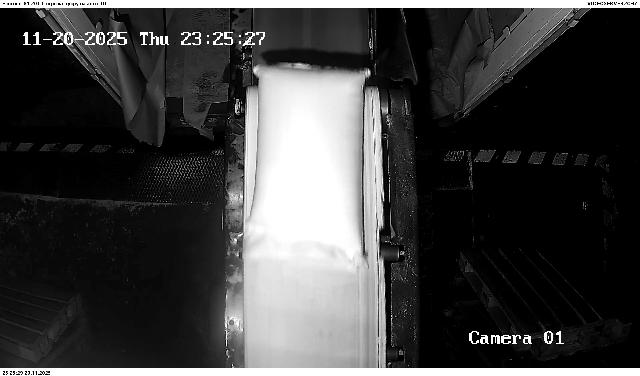bag: (250, 63, 371, 273)
